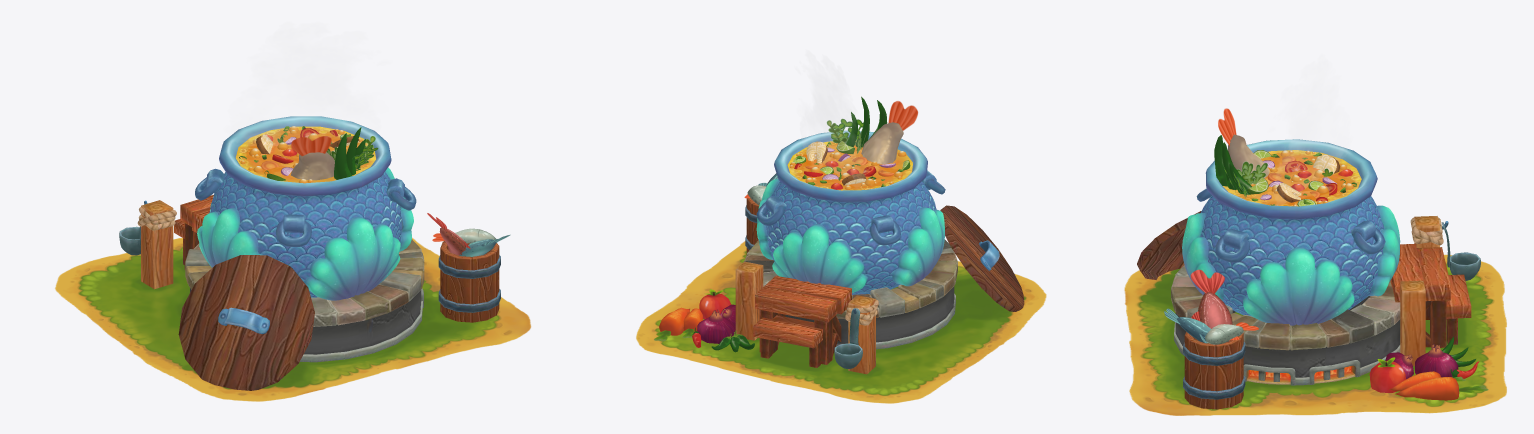
Rendered from fish-soup-pot.glb.
3 views of the same model, side by side, from view 1: azimuth 30°, elevation 25°; view 2: azimuth 150°, elevation 25°; view 3: azimuth 270°, elevation 25° (orthographic). The views are drawn at different scales.
Visible parts, largest first — view 1: Plane.008, Plane.001, Plane.040, Sphere.030; view 2: Plane.008, Plane.001, Plane.040, Sphere.030; view 3: Plane.008, Plane.001, Plane.040, Sphere.030.
Part boxes in pixels (x1=…): Plane.008: x1=119, y1=116, x2=500, y2=390; Plane.001: x1=55, y1=126, x2=531, y2=401; Plane.040: x1=240, y1=28, x2=378, y2=170; Sphere.030: x1=239, y1=126, x2=362, y2=183; Plane.008: x1=735, y1=130, x2=1024, y2=374; Plane.001: x1=636, y1=96, x2=1046, y2=403; Plane.040: x1=805, y1=60, x2=884, y2=184; Sphere.030: x1=789, y1=151, x2=906, y2=189; Plane.008: x1=1137, y1=139, x2=1480, y2=409; Plane.001: x1=1124, y1=108, x2=1506, y2=415; Plane.040: x1=1224, y1=60, x2=1344, y2=205; Sphere.030: x1=1270, y1=150, x2=1353, y2=206.
Size of the model in its own units: 5.11 by 4.16 by 5.11.
Materials: 4 (4 with a texture image).
